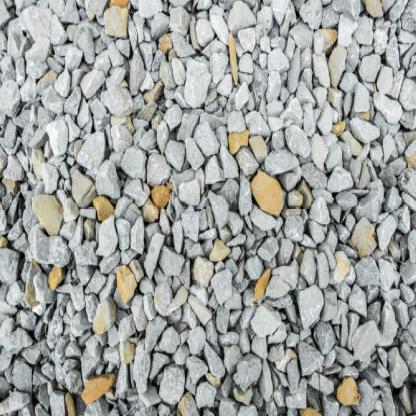Sedimentary_Limestone: (246, 161, 285, 217), (32, 196, 61, 238), (80, 372, 113, 407), (349, 220, 375, 256), (328, 374, 358, 404), (224, 33, 240, 81), (252, 268, 272, 300), (47, 262, 71, 288), (148, 184, 170, 210), (94, 196, 116, 222), (193, 257, 213, 282), (160, 31, 172, 58), (104, 0, 131, 10), (297, 406, 321, 415)
